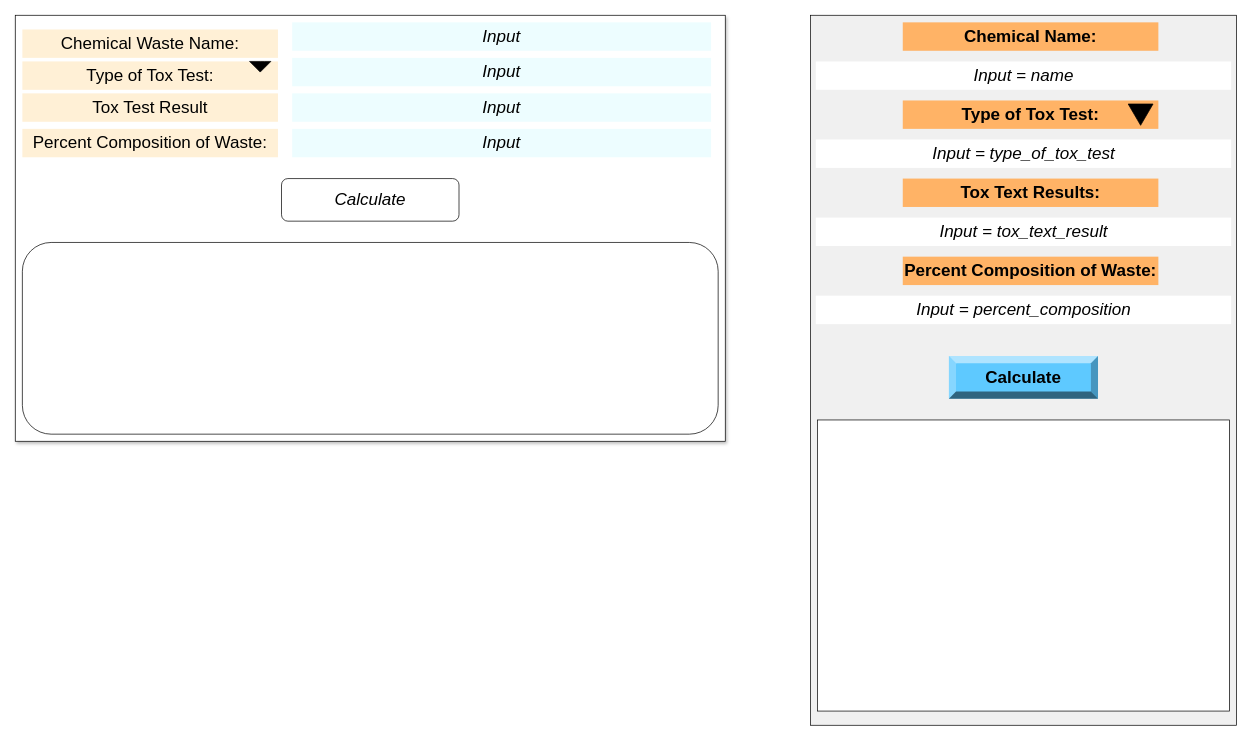
Image size: 1249x738. Some labels were removed from this diagram. Each missing label, with the centre of its shape:
"Results:" belongs at point (370, 338).
"self.designate_waste(self)" belongs at point (1023, 565).
